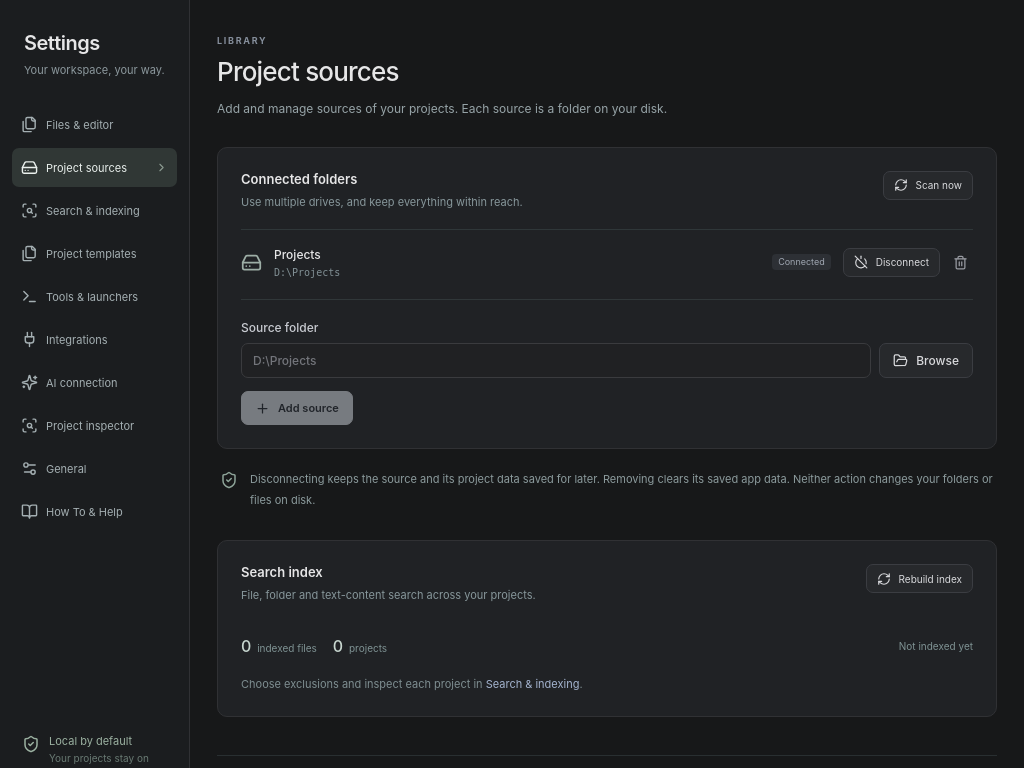
Test case: settings edits › keeps disconnect separate from permanently removing a saved source
Later steps or results of the test are not shown.
Click the button "Disconnect" at (891,262), box 843,248 -> 940,277
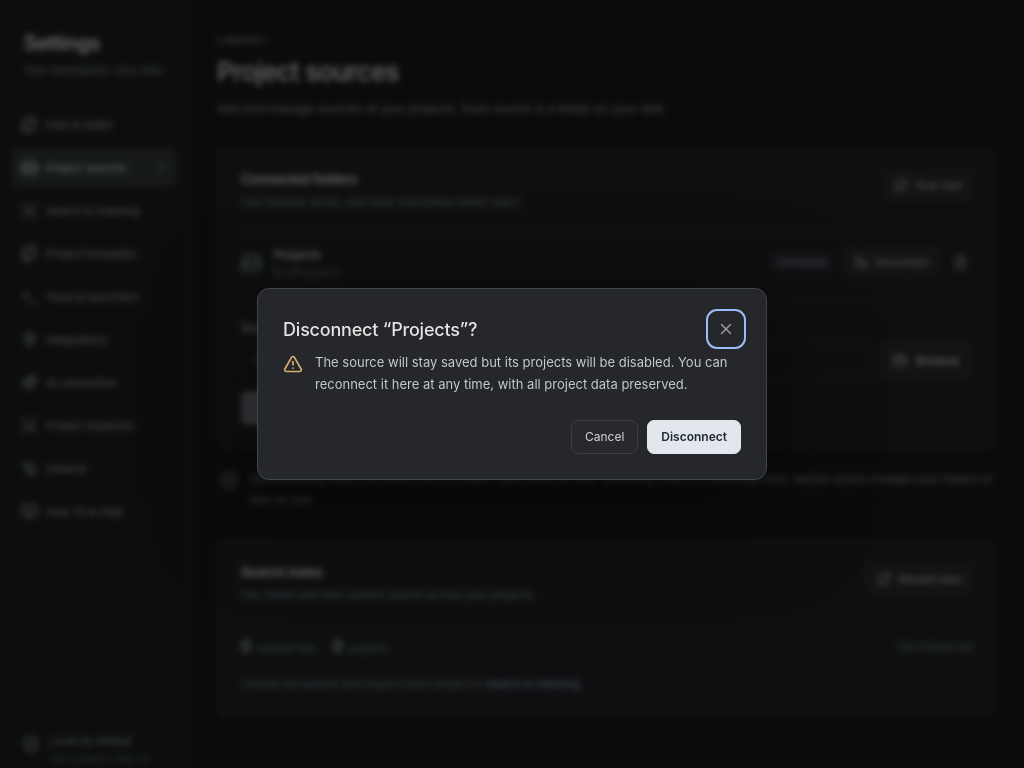
Result: the dialog "Disconnect “Projects”?" is shown at 257,288 -> 767,480
